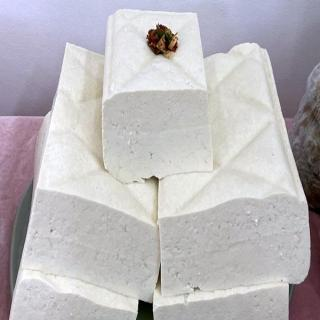Tahu: (82, 7, 237, 189)
